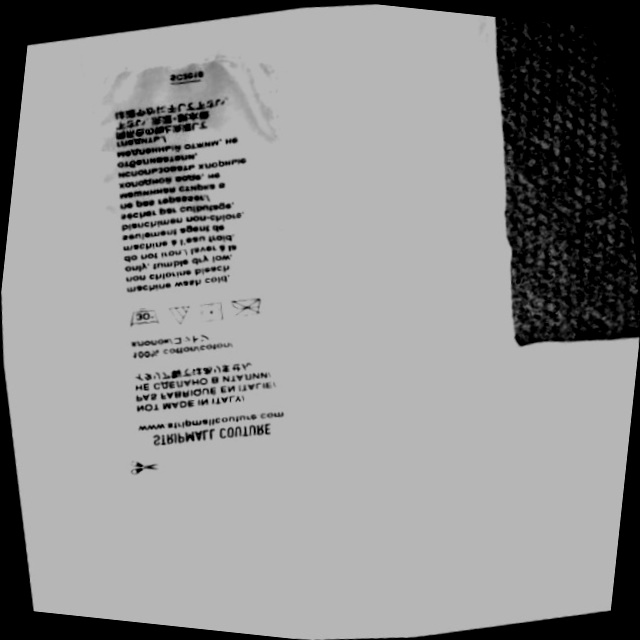30C: (123, 302, 163, 331)
DN_iron: (229, 292, 270, 325)
non_chlorine_bleach: (164, 301, 194, 328)
tumble_dry_low: (191, 297, 228, 326)
